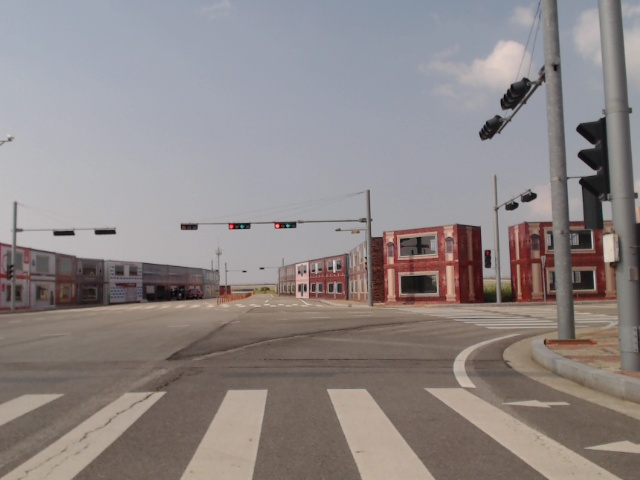left_green_4: (229, 223, 250, 229), (275, 223, 296, 228)
